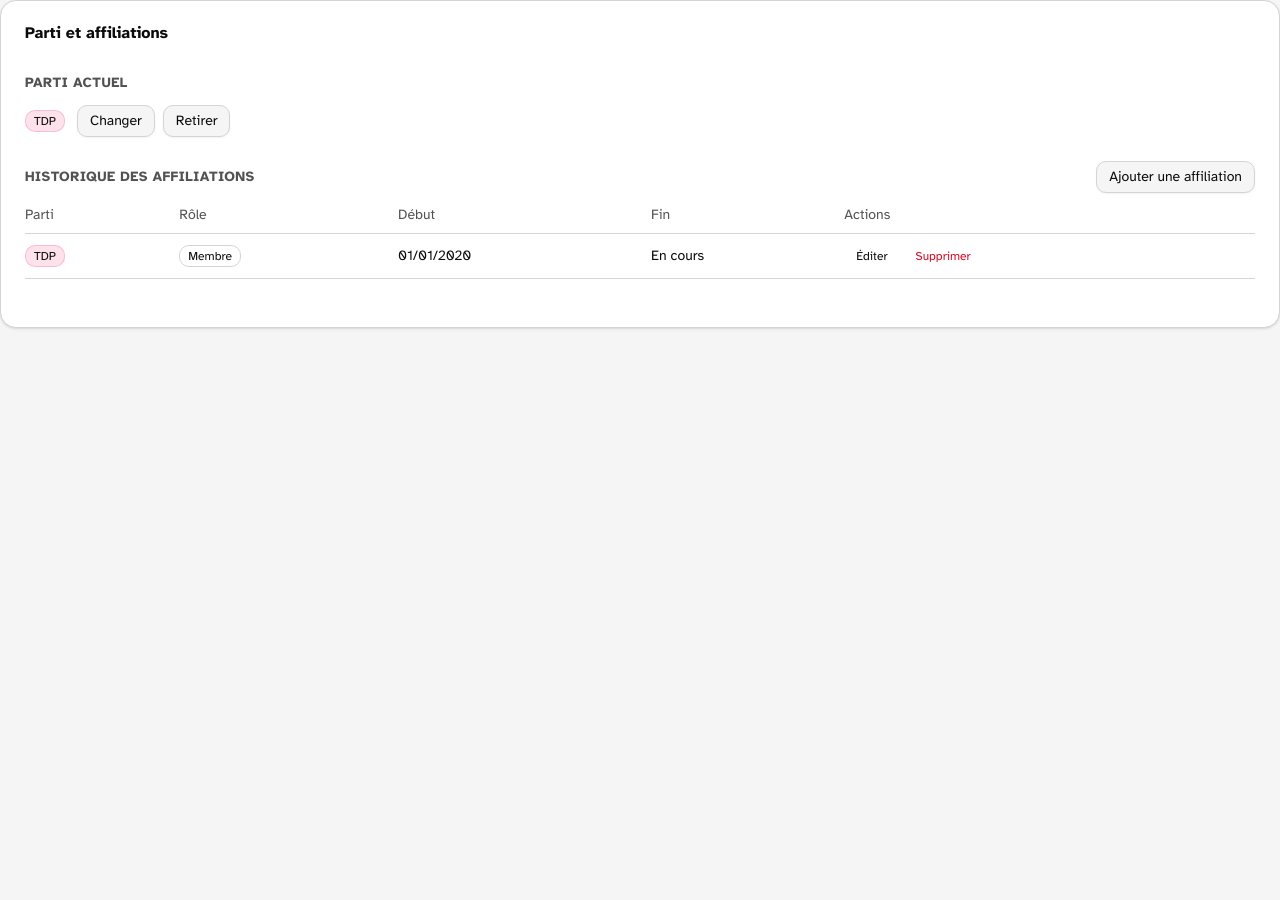
EditablePartyCard — add affiliation form › shows returned warnings alongside the success message
Click the button "Ajouter une affiliation" at x=1176, y=177, box [1096, 161, 1255, 193]
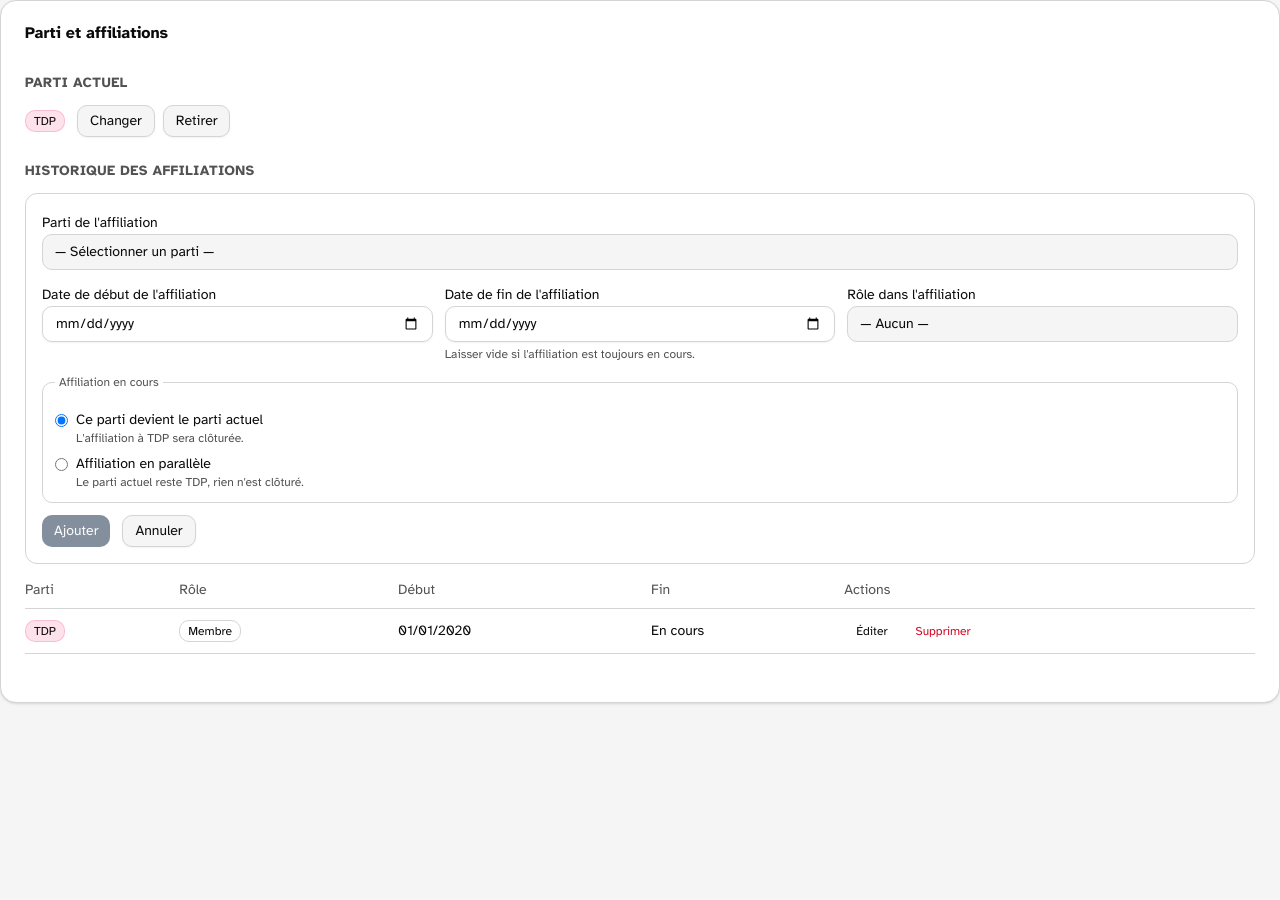
Select "PS — Parti socialiste" in the dropdown labelled "Parti de l'affiliation" at x=640, y=252, box [42, 234, 1238, 270]
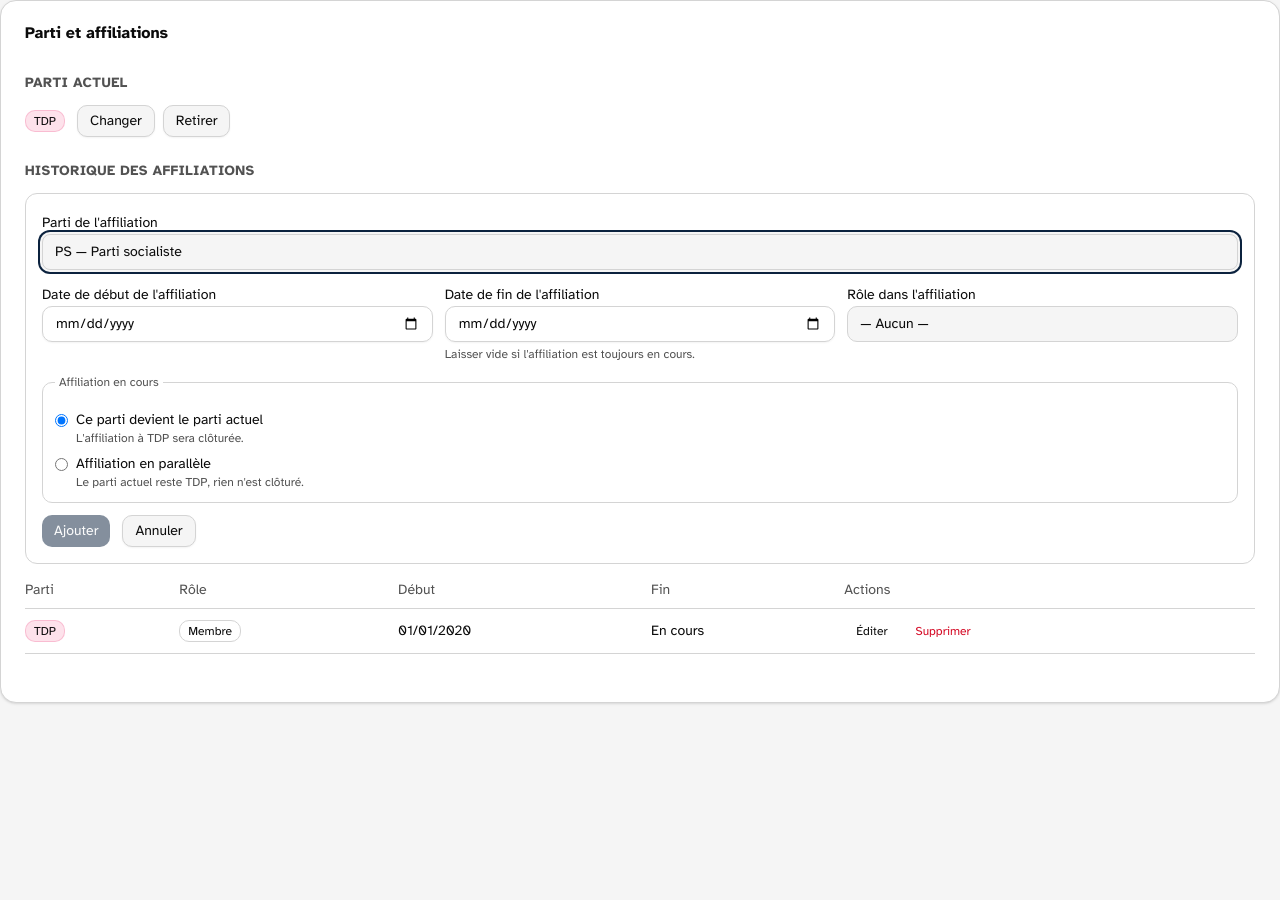
Type "1997-06-03" into the date field labelled "Date de début de l'affiliation" at x=237, y=324, box [42, 306, 433, 342]
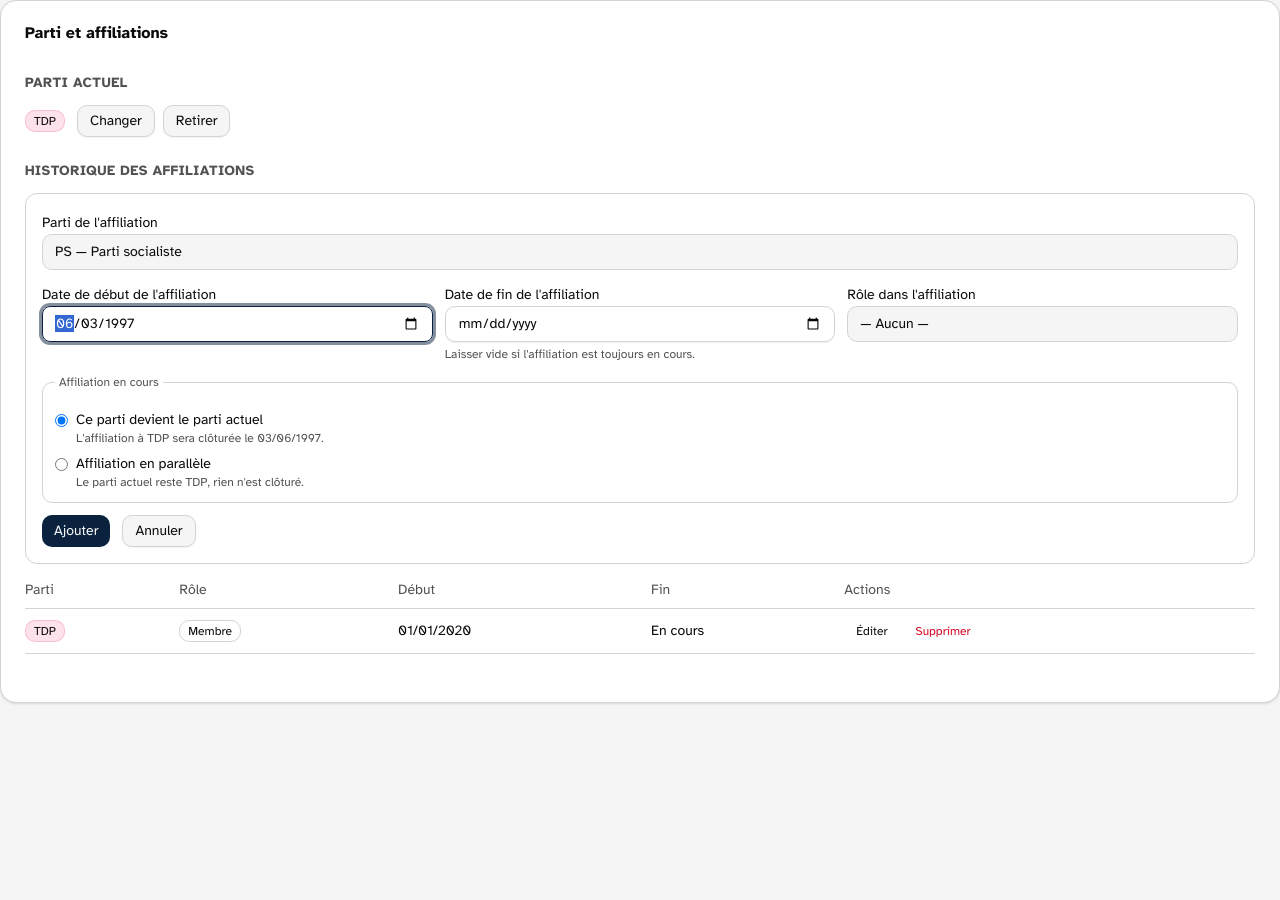
Type "2018-01-01" into the date field labelled "Date de fin de l'affiliation" at x=640, y=324, box [445, 306, 835, 342]
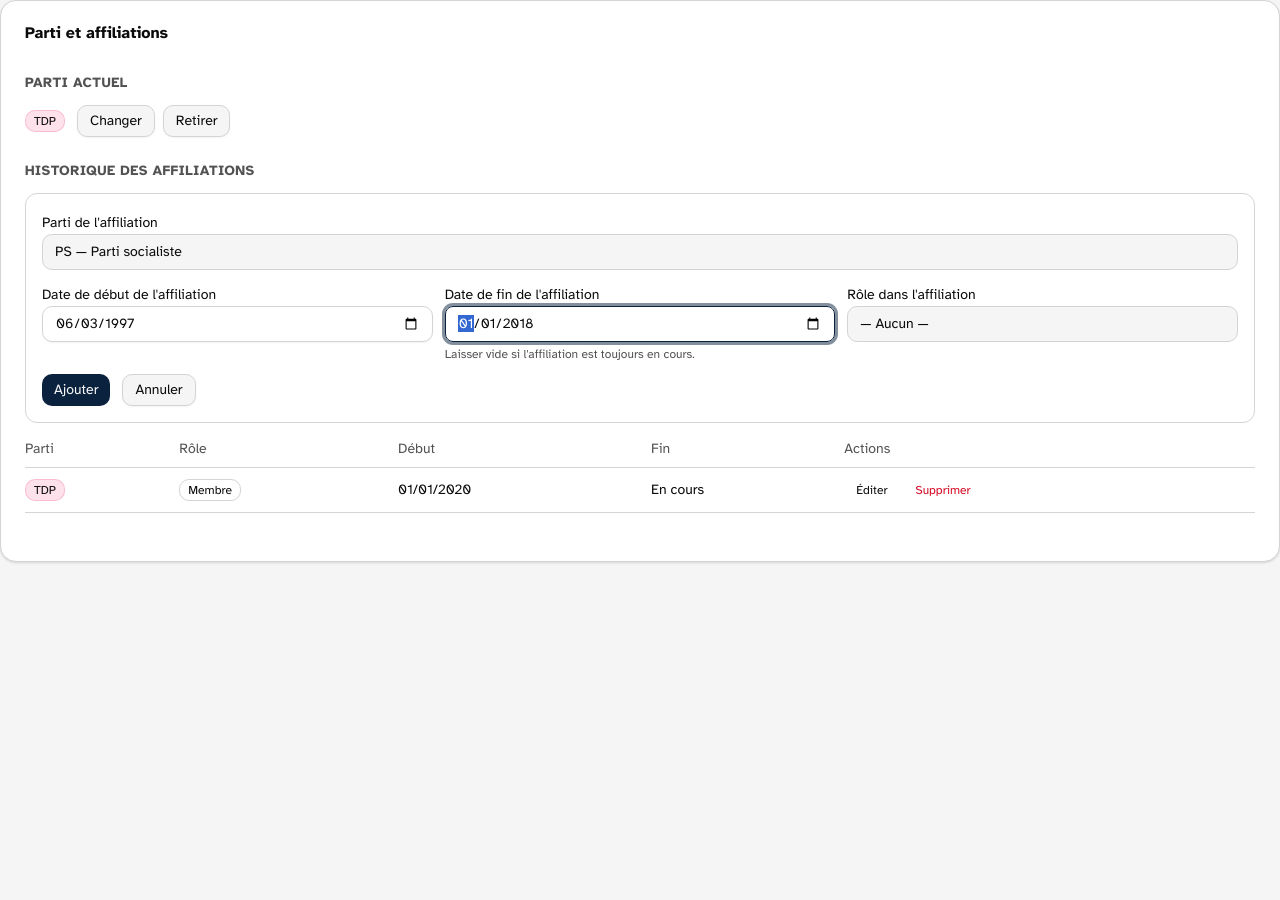
Click the button "Ajouter" at x=76, y=390, box [42, 374, 110, 406]
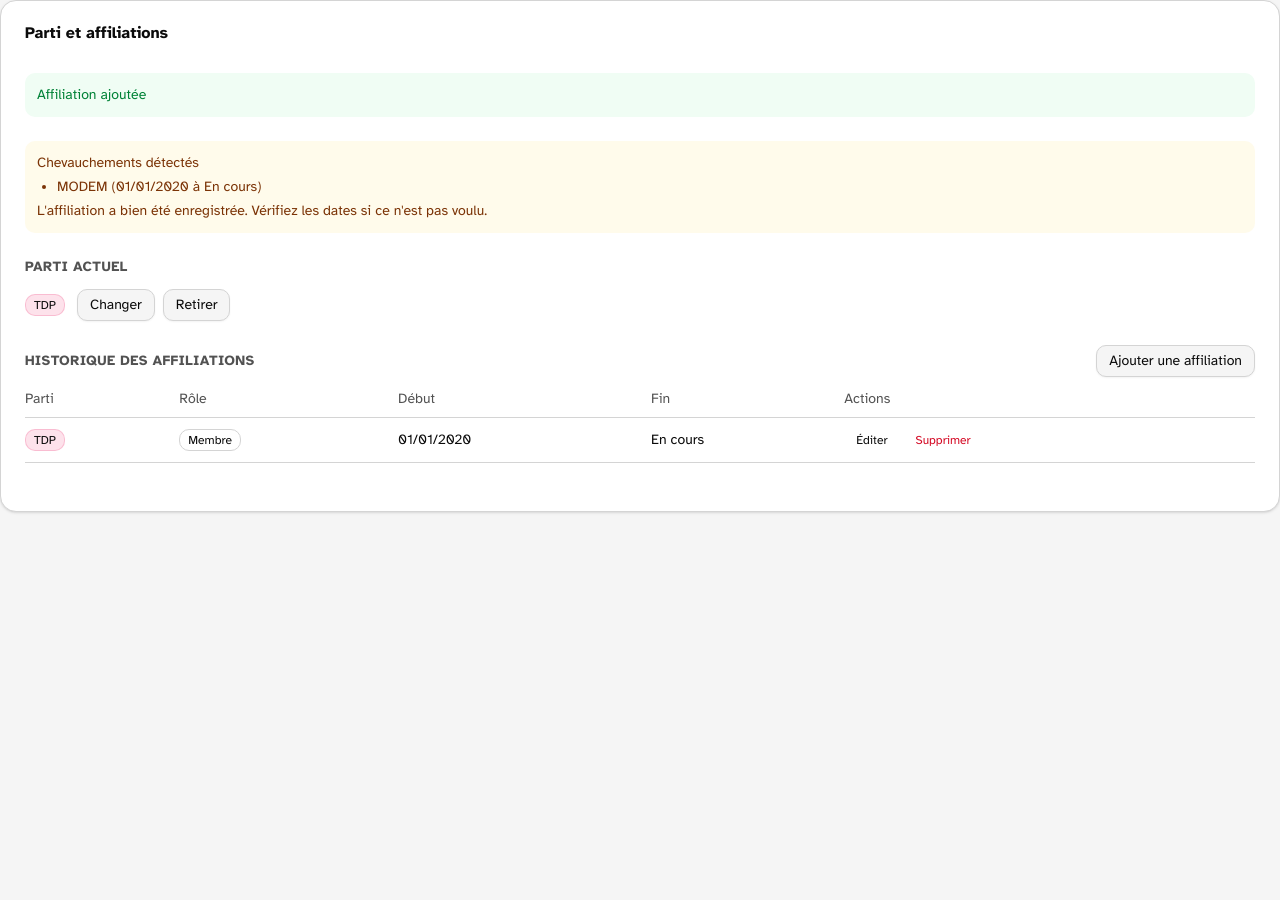
Expected: the text "Chevauchements détectés" is shown, [37, 154, 199, 171]
Expected: the list item "MODEM (01/01/2020 à En cours)" is shown, [57, 178, 261, 195]
Expected: the text "Affiliation ajoutée" is shown, [25, 73, 1255, 117]
